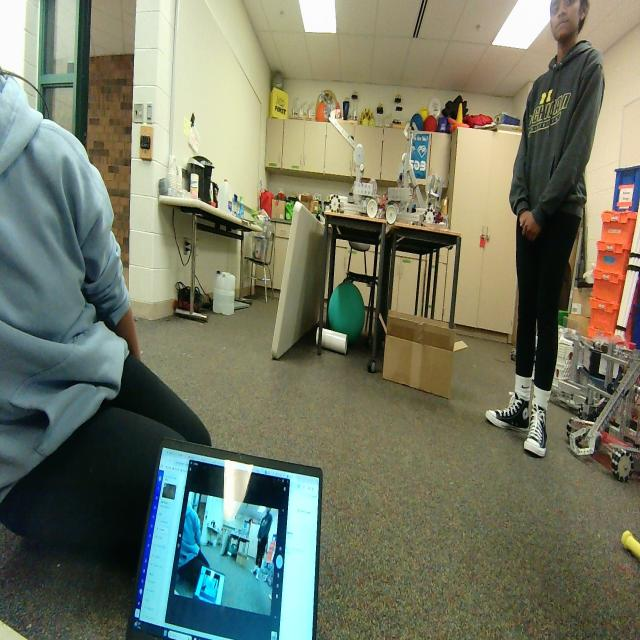algae: (327, 271, 365, 346)
coral: (316, 325, 347, 355)
